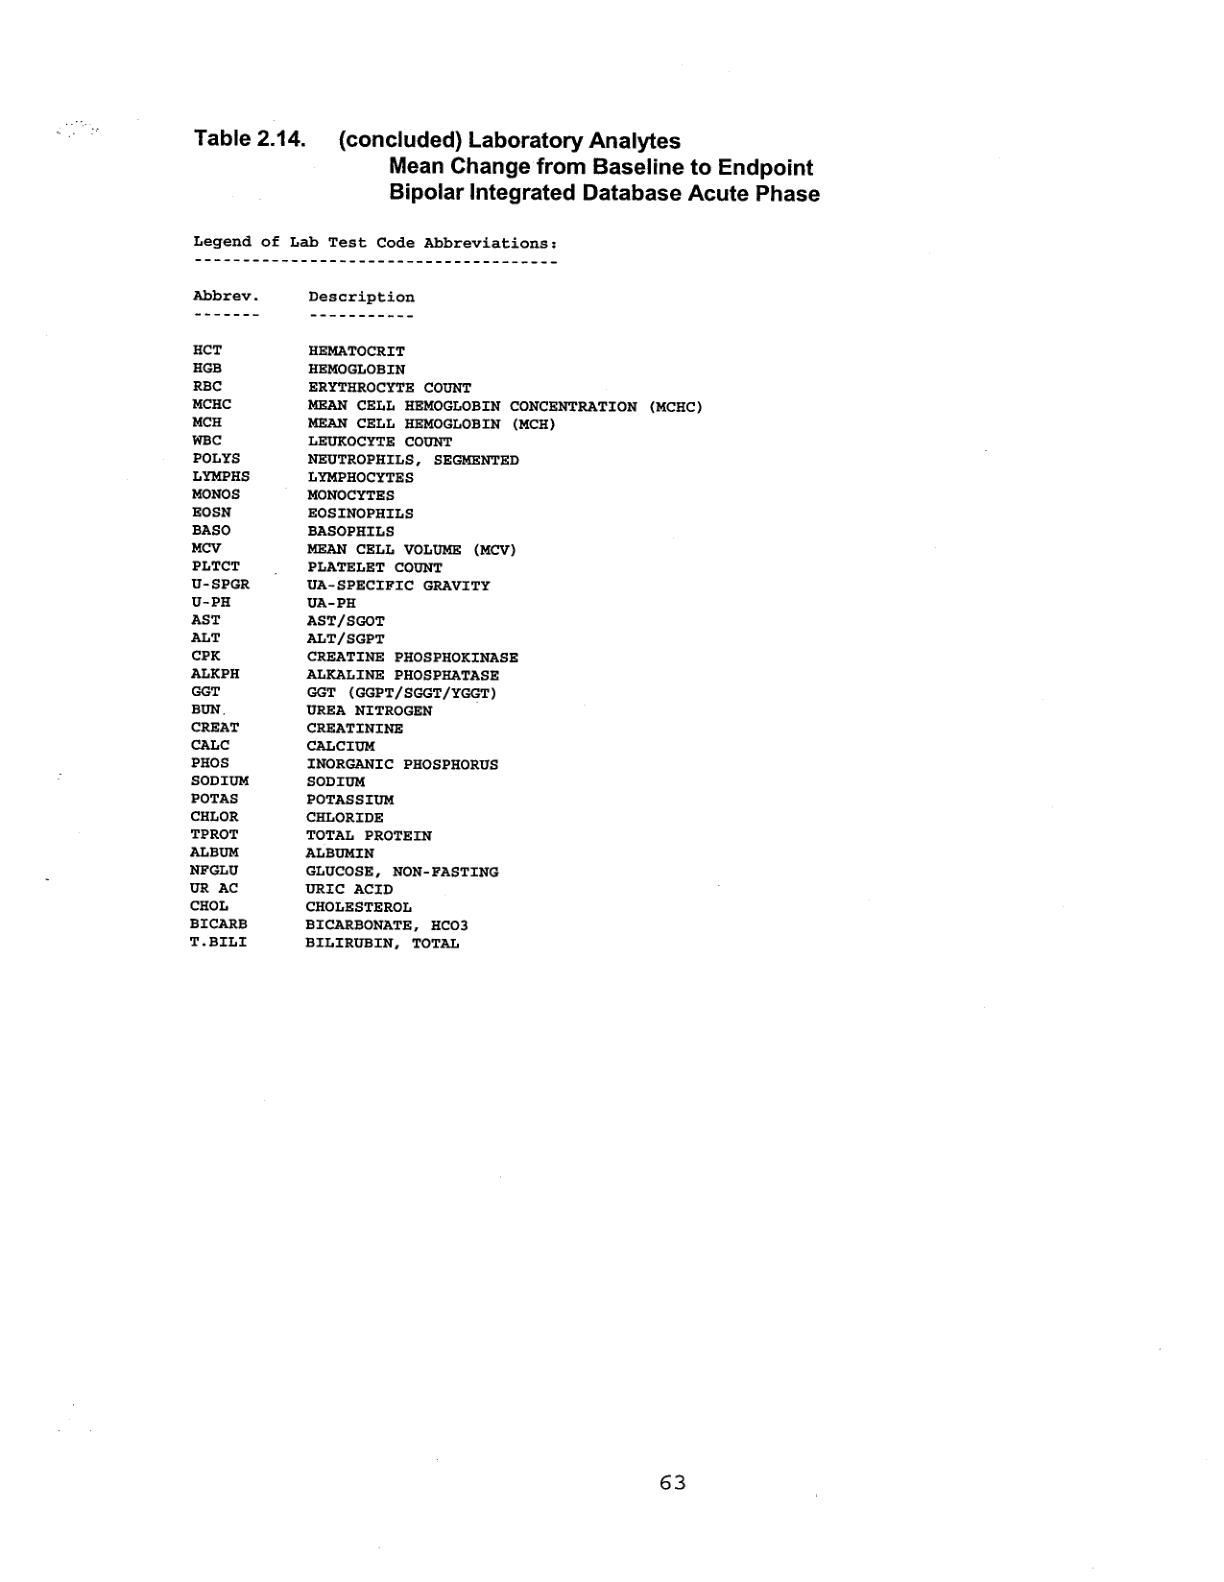nolines: (191, 284, 705, 953)
